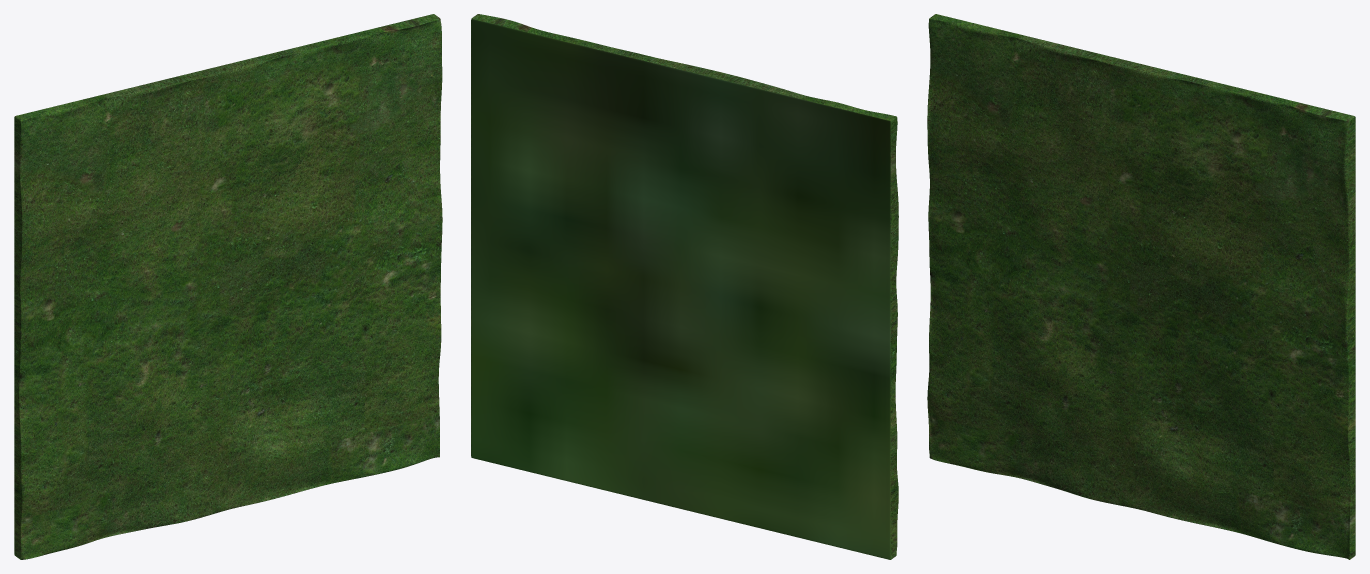
The model's file is grass.glb.
3 renders of one model, left to right at view 1: azimuth 30°, elevation 25°; view 2: azimuth 150°, elevation 25°; view 3: azimuth 330°, elevation 25°, orthographic.
Visible parts, largest first — view 1: Node1; view 2: Node1; view 3: Node1.
Boxes of the visible parts, box(x1,y1,x2,y2) form: Node1: box(14, 14, 442, 559); Node1: box(471, 14, 898, 559); Node1: box(927, 14, 1355, 559).
Size of the model in its own units: 300 by 300 by 11.78.
Materials: 1 (1 with a texture image).
